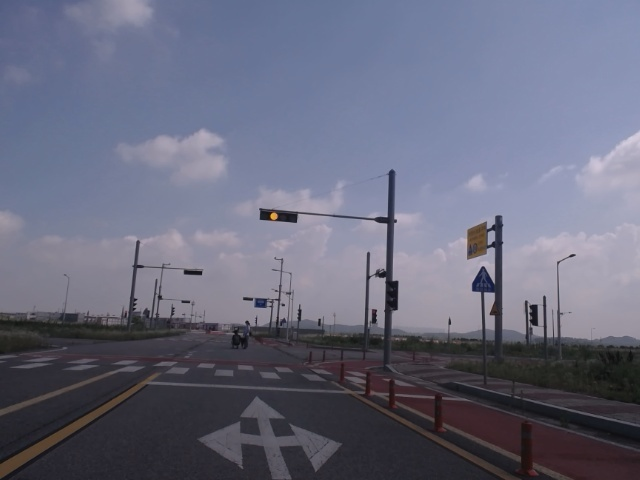orange_4: (261, 208, 299, 223)
